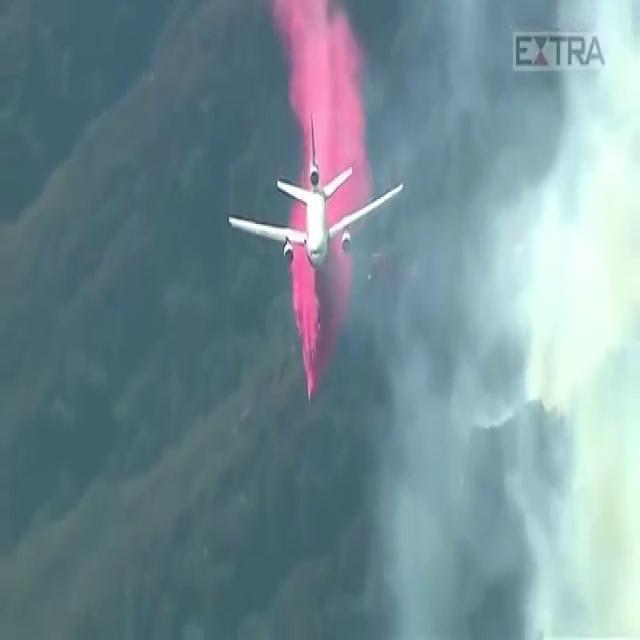Smoke: (392, 37, 636, 635)
